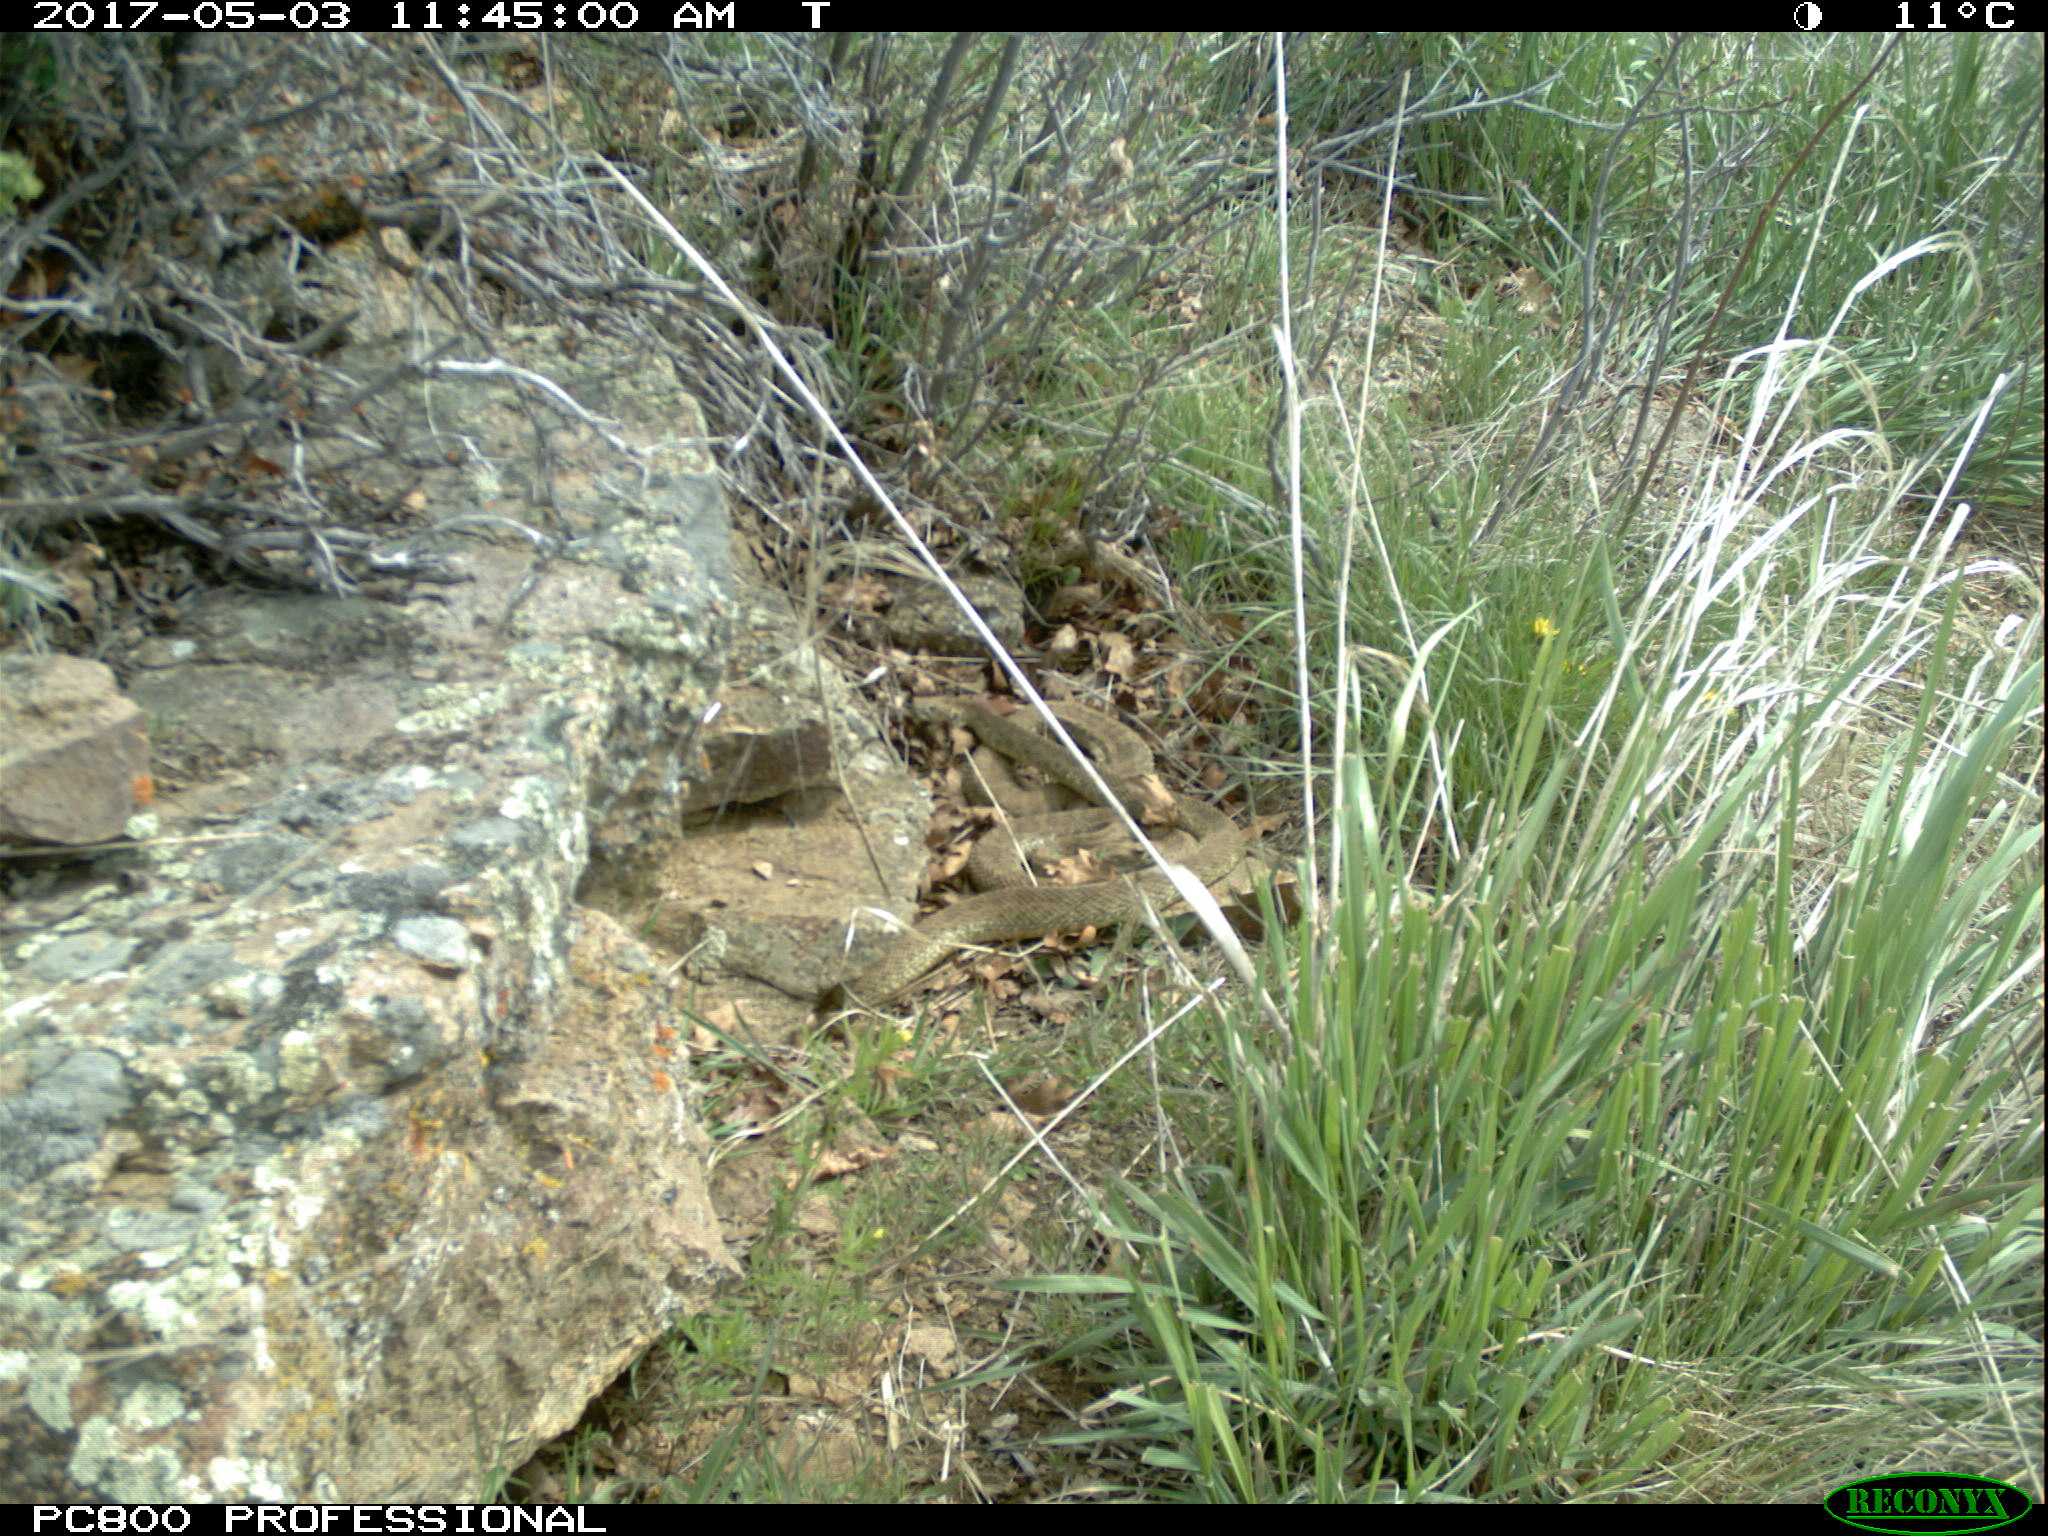snake: (848, 694, 1240, 1007)
